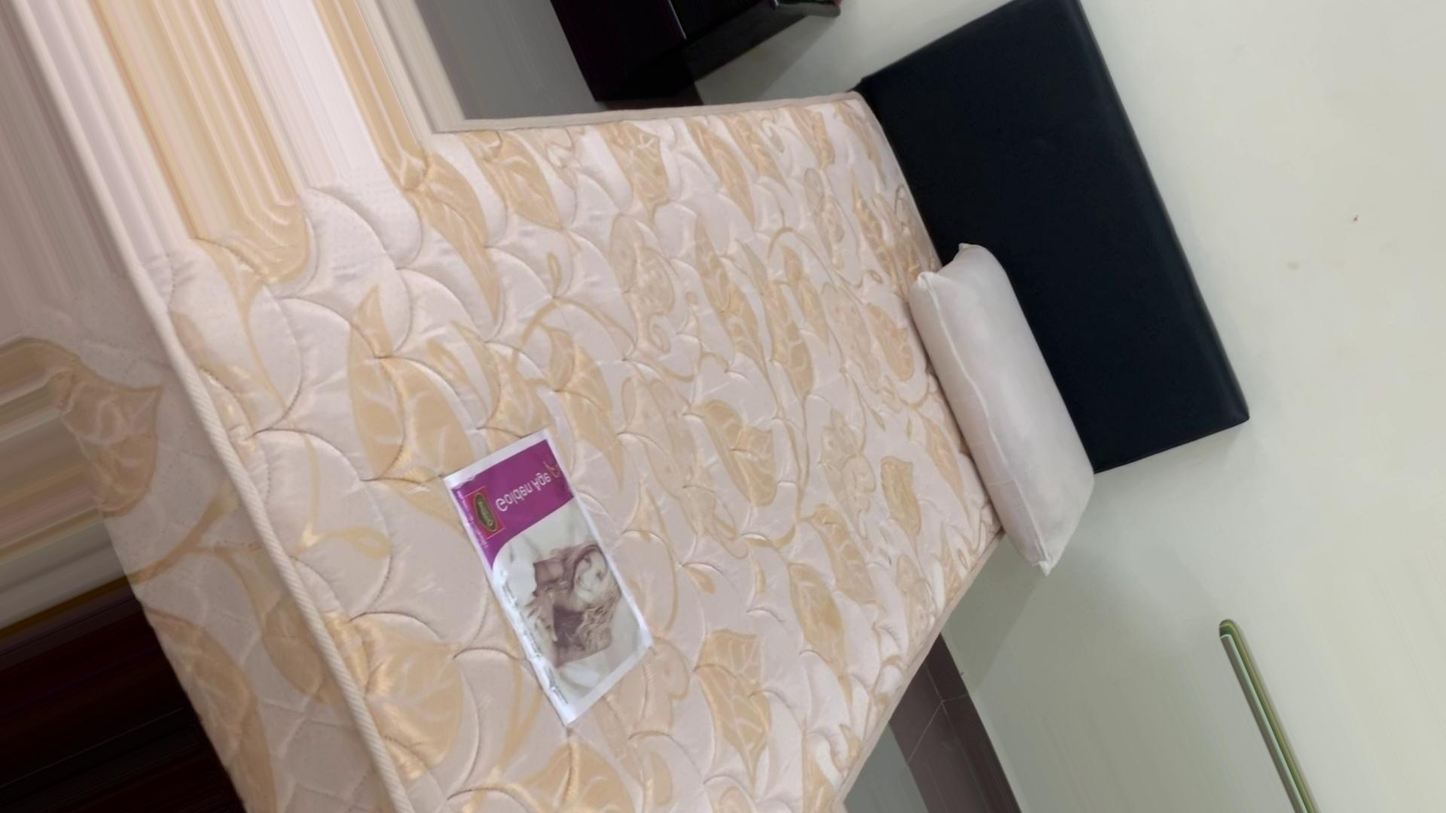bed: (0, 11, 1341, 813)
table: (521, 6, 854, 118)
